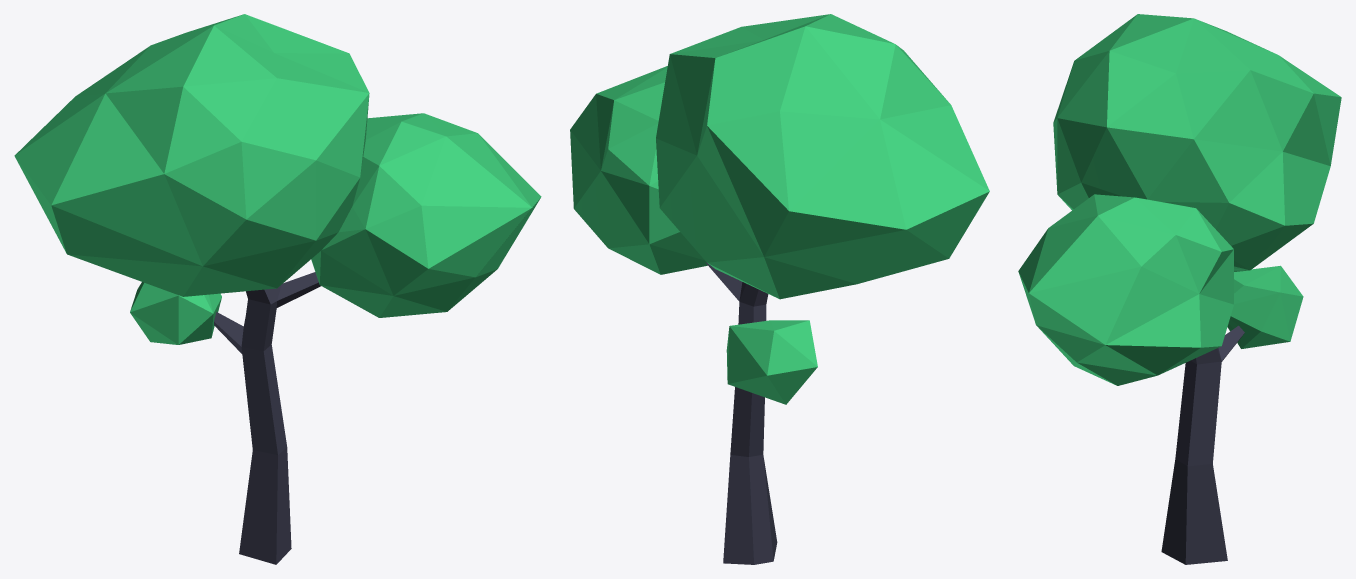
The model's file is Tree1.gltf.
3 views of the same model, side by side, from view 1: azimuth 30°, elevation 25°; view 2: azimuth 150°, elevation 25°; view 3: azimuth 270°, elevation 25° (orthographic). The views are drawn at different scales.
Visible parts, largest first — view 1: Trunk, Tree; view 2: Trunk, Tree; view 3: Trunk, Tree.
Part boxes in pixels (box(x1,y1,x2,y2)): Trunk: box(14, 14, 541, 344); Tree: box(214, 272, 320, 564); Trunk: box(570, 14, 989, 404); Tree: box(706, 262, 777, 564); Trunk: box(1018, 14, 1341, 385); Tree: box(1161, 325, 1244, 564).
Size of the model in its own units: 0.2106 by 0.2383 by 0.1363.
